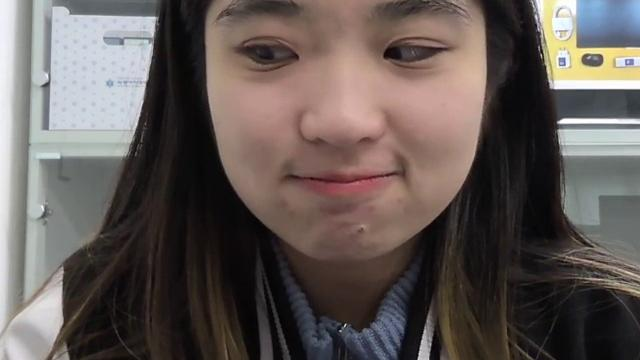eye: (253, 47, 271, 60)
iris: (384, 43, 450, 64), (242, 44, 299, 64)
